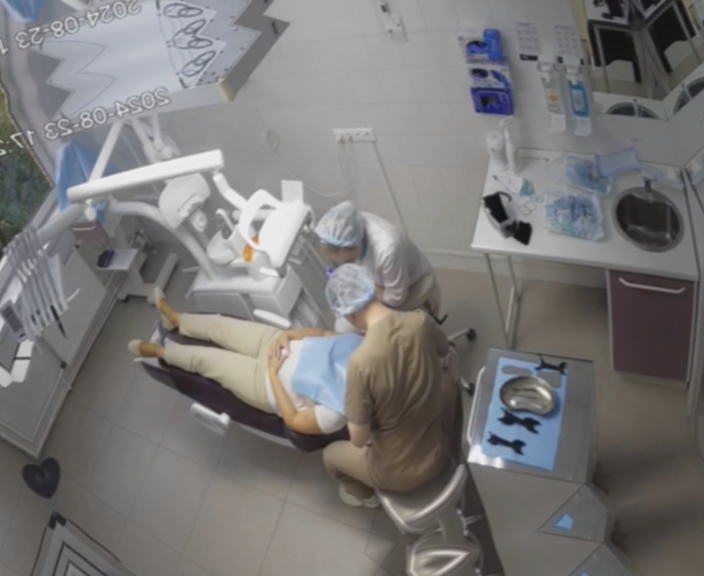Patient: (114, 222, 430, 500)
